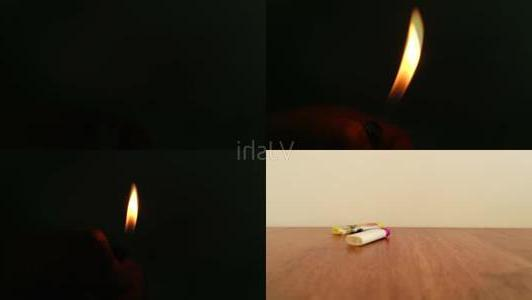fire: (391, 11, 432, 108), (112, 176, 147, 238)
